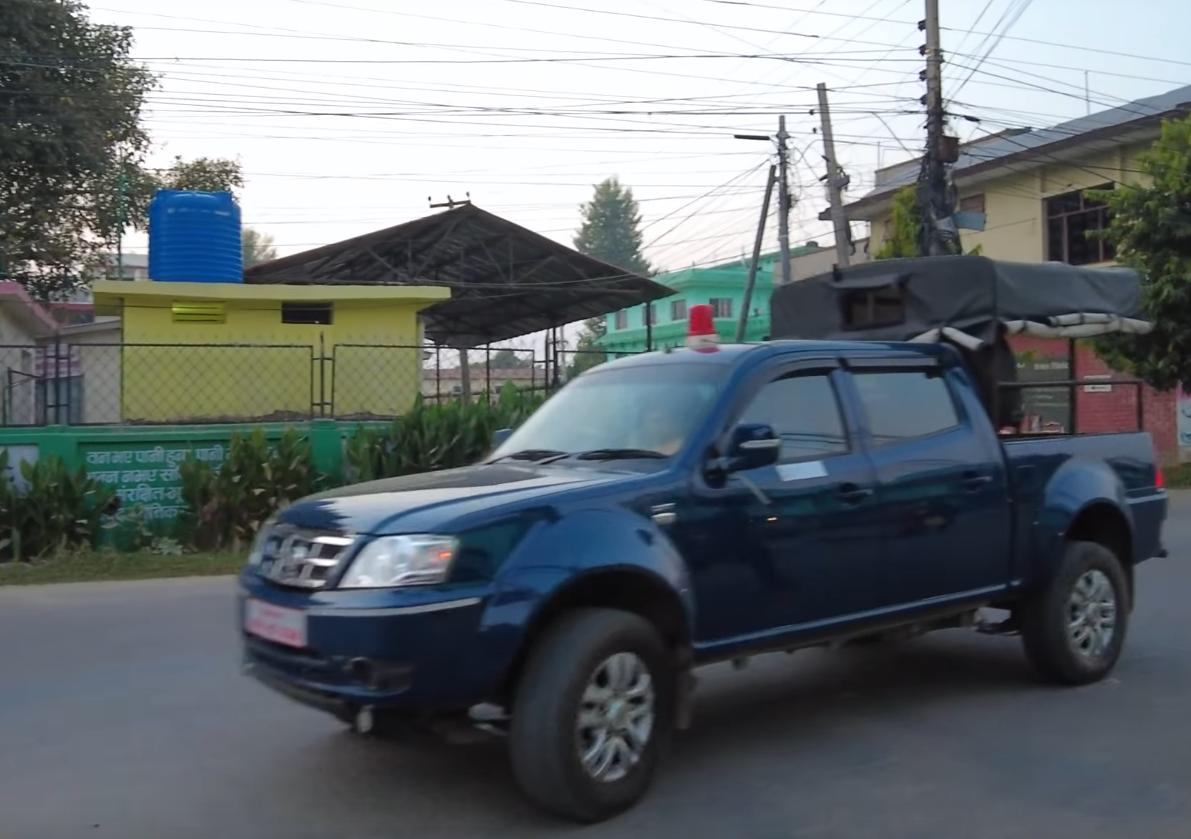police_vehicle: (216, 245, 1191, 830)
